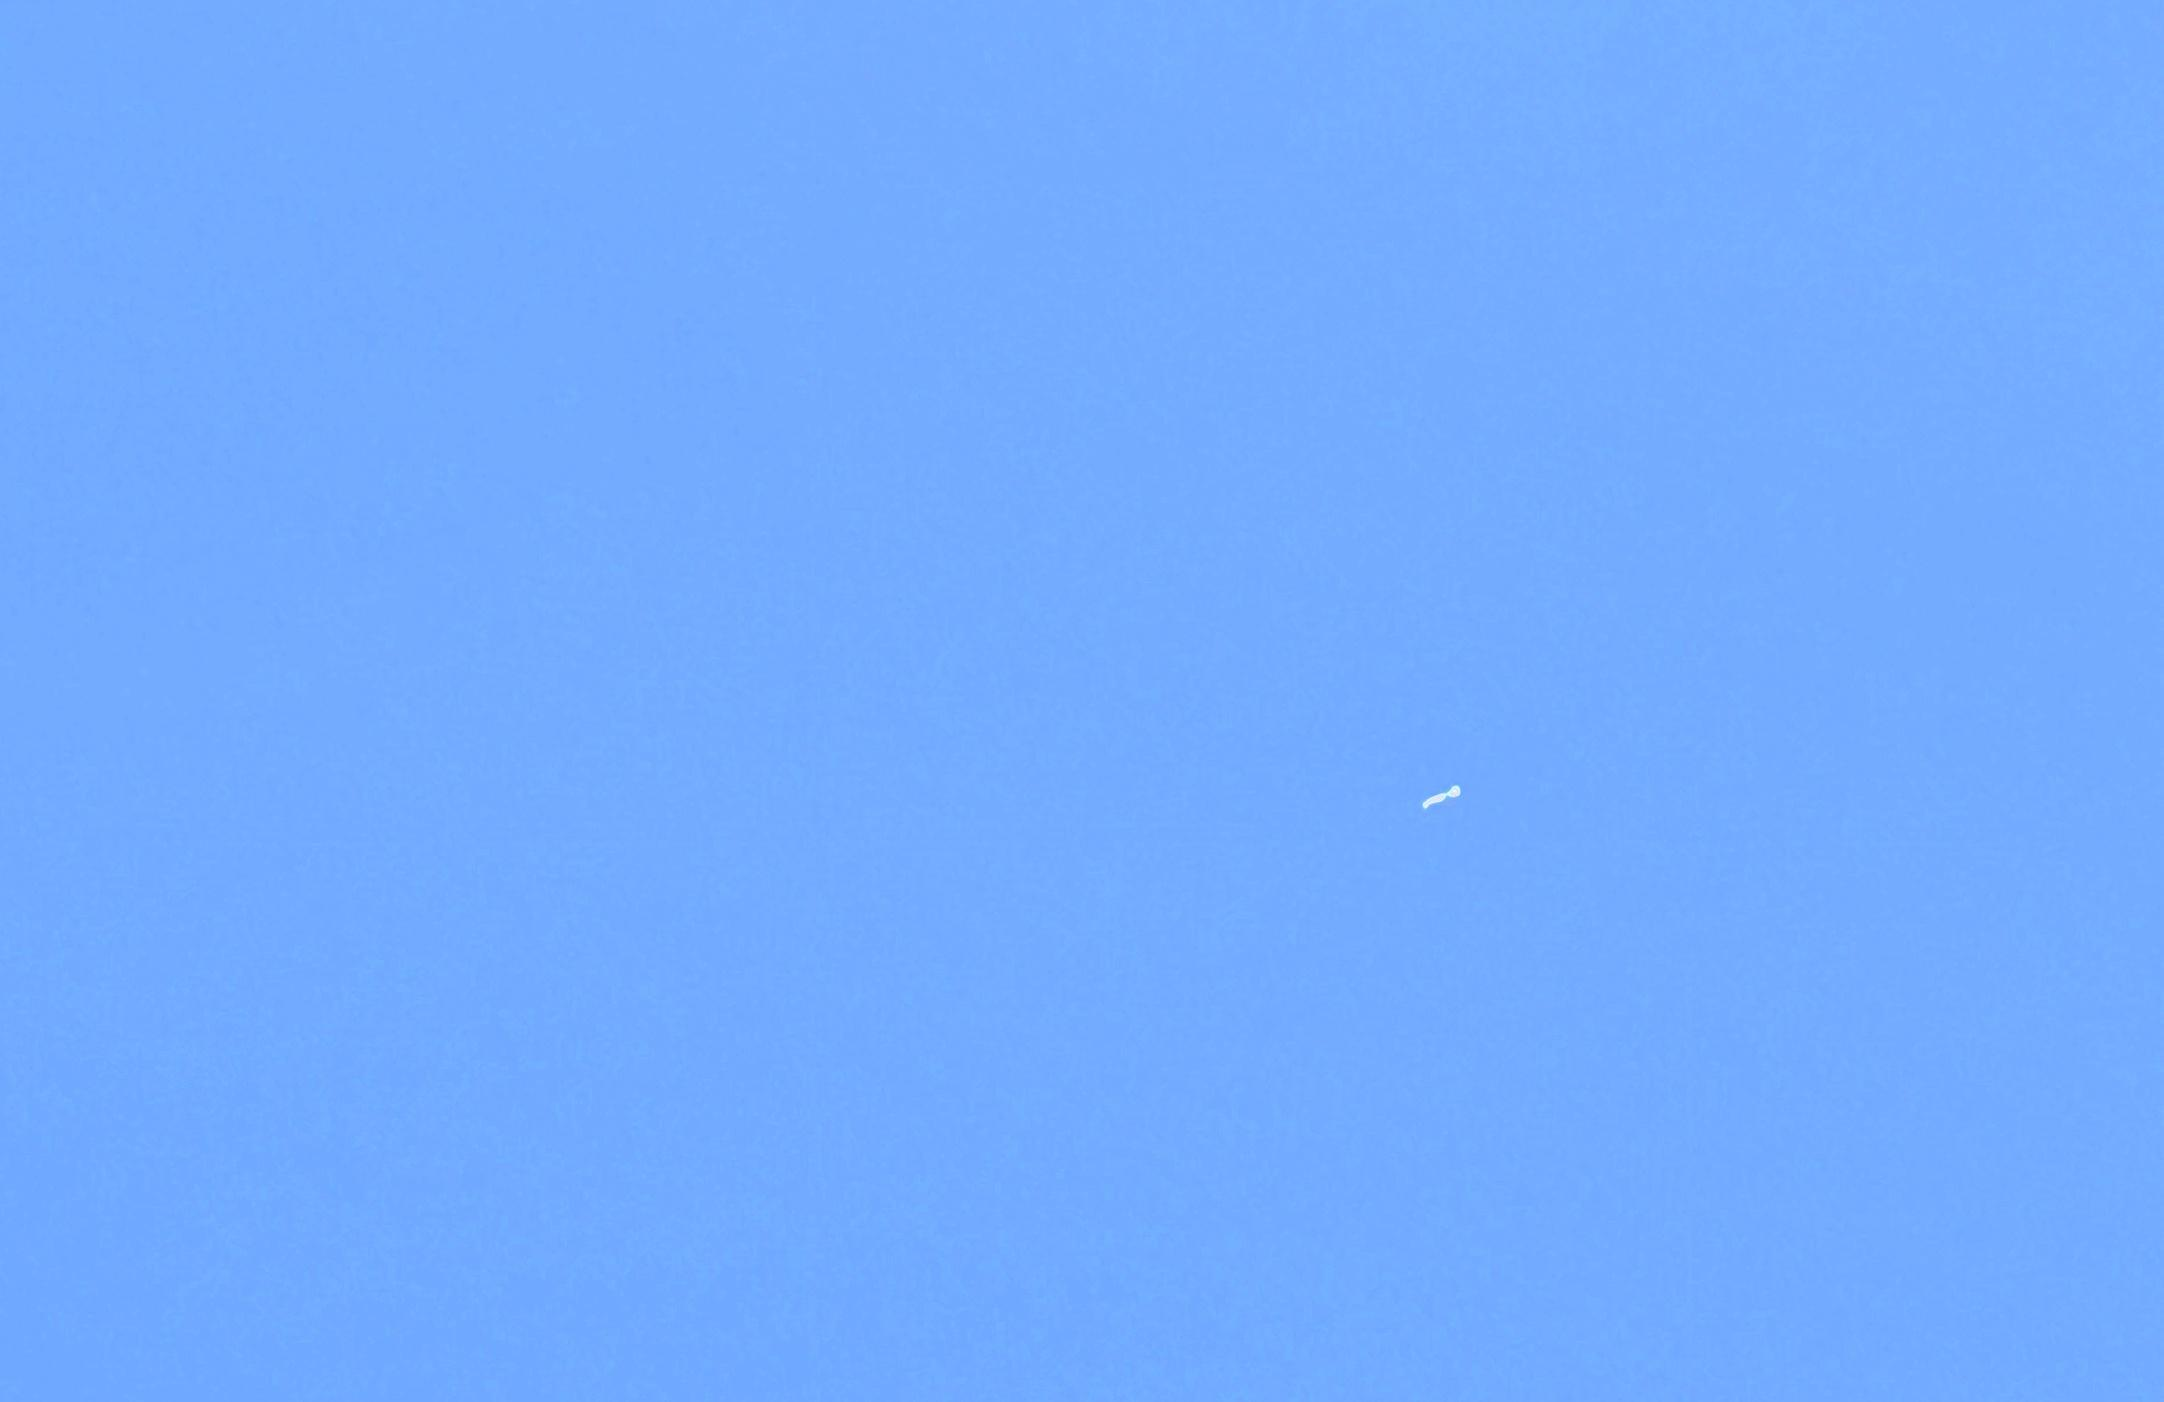Plane: (1371, 777, 1524, 837)
